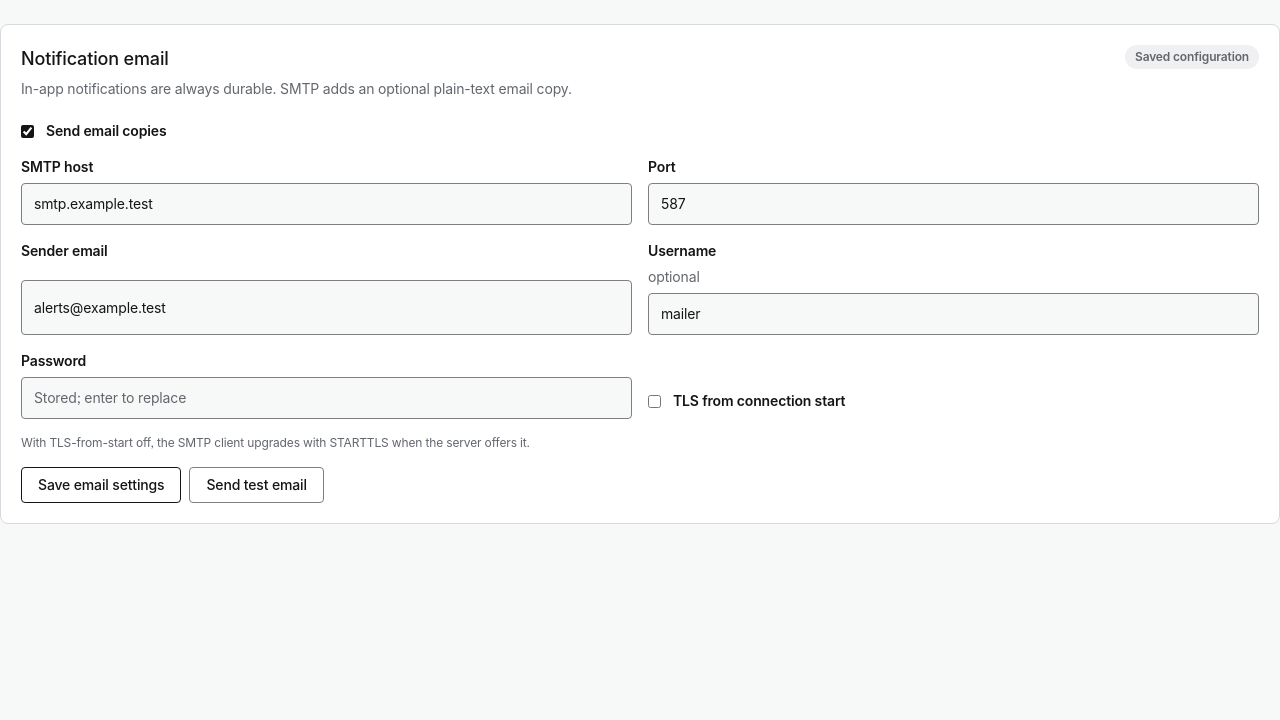
SmtpSettingsCard › loads secret-free settings, replaces the password, and surfaces a test error
The width and height of the screenshot is (1280, 720).
Expected: the field labelled "SMTP host" holds "smtp.example.test", [21,183,632,225]
Type " new-secret " into the password field labelled "Password" at (326, 398), box [21,377,632,419]
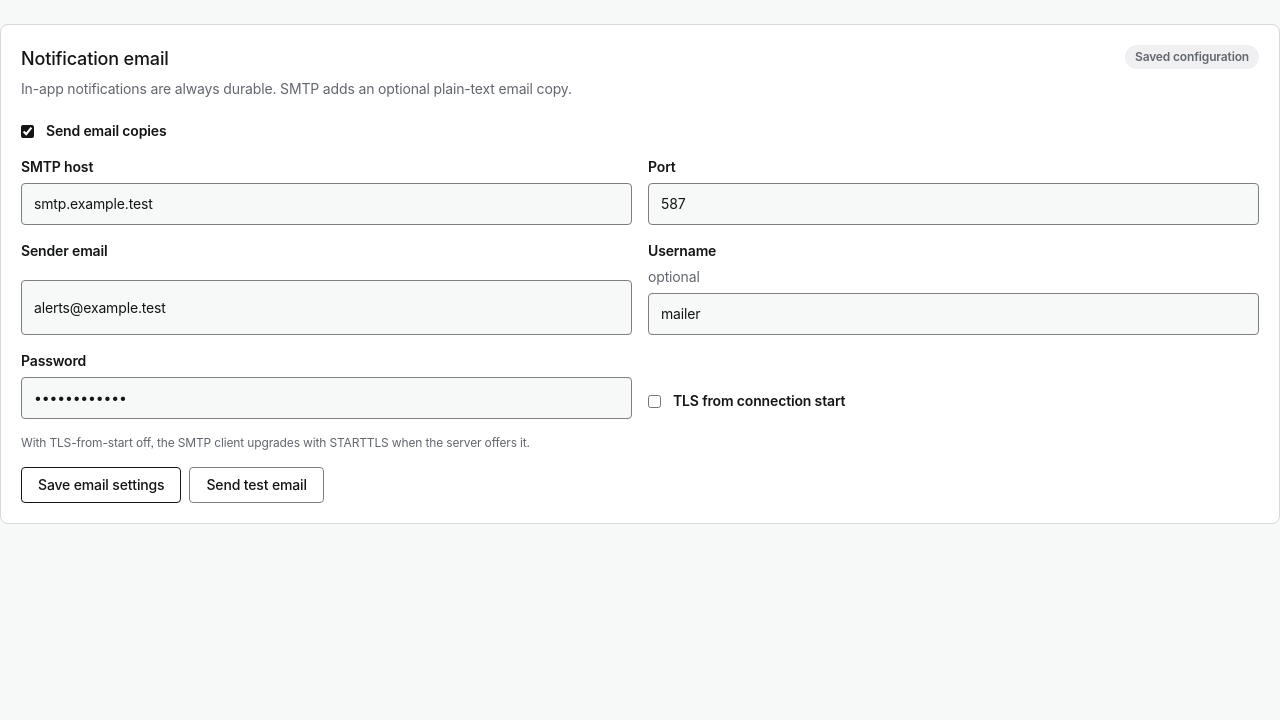
Click the button "Save email settings" at (101, 485), box [21,467,182,503]
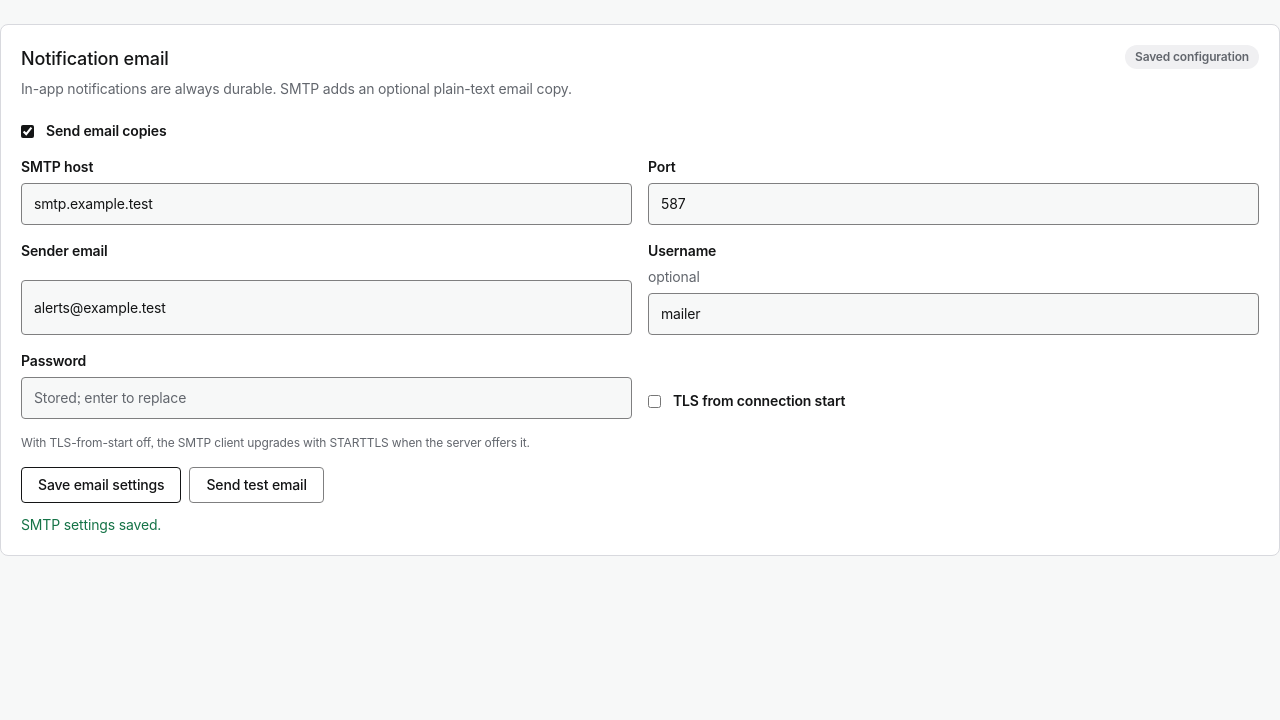
Expected: the text "SMTP settings saved." is shown, [21,516,161,533]
Click the button "Send test email" at (257, 485), box [190,467,324,503]
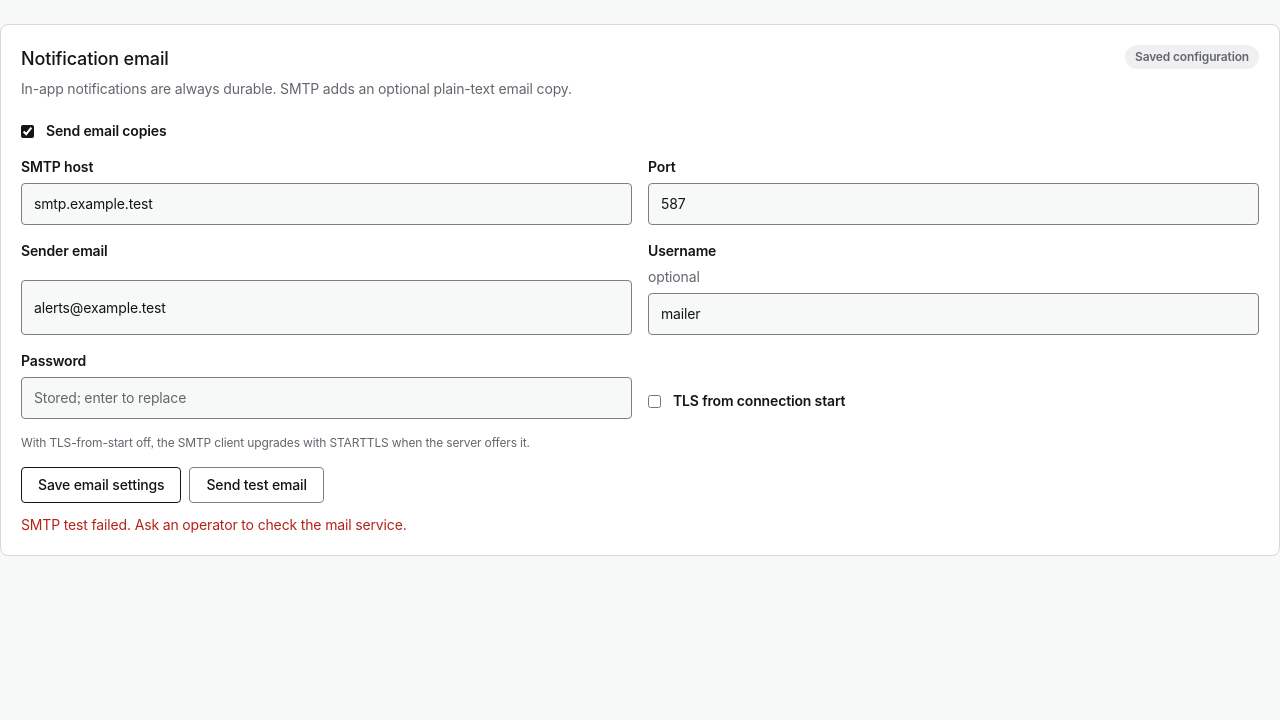
Expected: the message reads "SMTP test failed. Ask an operator to check the mail service.", [21,516,406,533]
